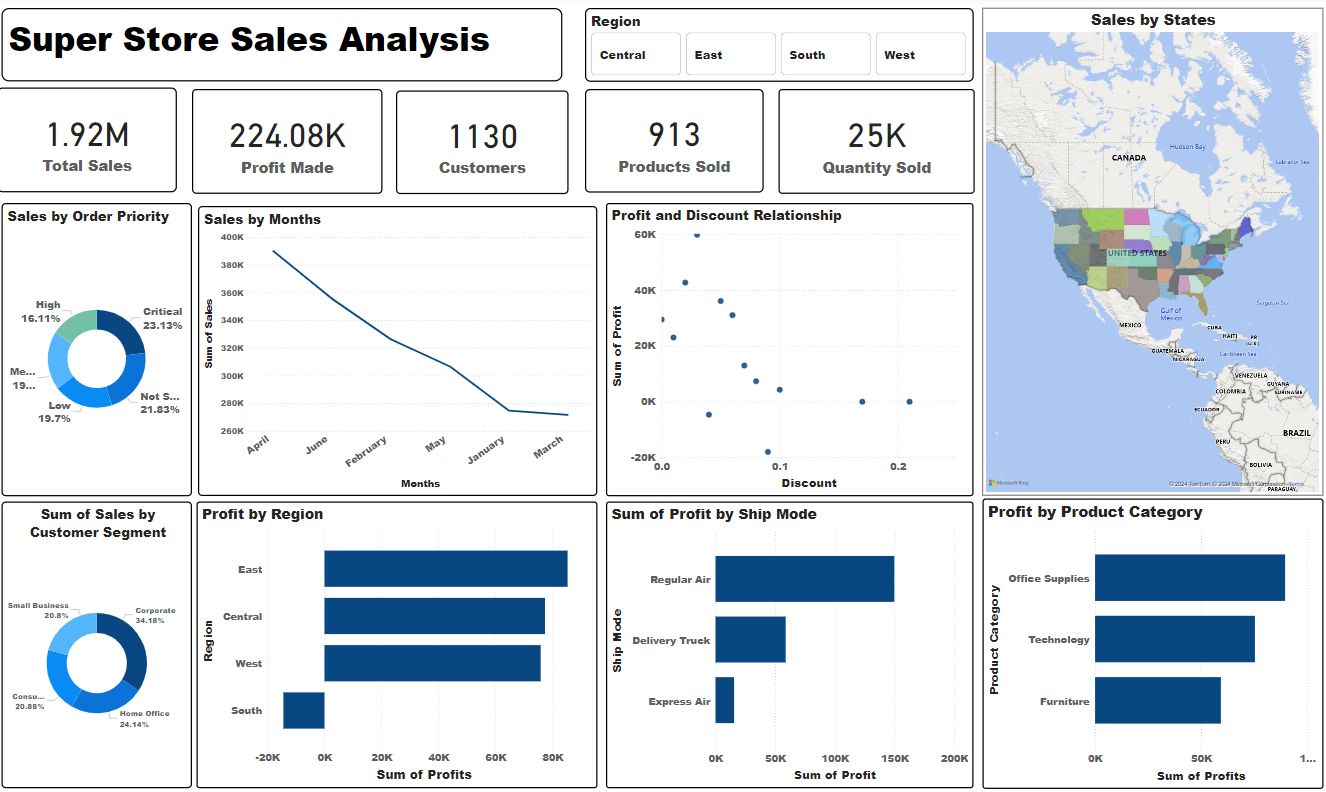

The dashboard page shown, as its layout file describes it:
{"tool":"powerbi","page":{"name":"Page 1","canvas":[2200,1350],"ordinal":0},"visuals":[{"type":"barChart","title":"Profit by Region","fields":{"Category":["Orders.Region"],"Y":["Sum(Orders.Profit)"]},"box":[324.9,825.7,655.1,468.3],"z":0},{"type":"scatterChart","title":"Profit and Discount Relationship","fields":{"X":["Orders.Discount"],"Y":["Sum(Orders.Profit)"]},"box":[996.2,338.4,601,479.2],"z":1000},{"type":"barChart","title":"Profit by Product Category","fields":{"Y":["Sum(Orders.Profit)"],"Category":["Orders.Product Category"]},"box":[1610.2,820.3,557.6,474.6],"z":2000},{"type":"barChart","fields":{"Y":["Sum(Orders.Profit)"],"Category":["Orders.Ship Mode"]},"box":[996.2,825.7,601,468.3],"z":3000},{"type":"card","fields":{"Values":["Orders.Total Sales"]},"box":[0,149.2,293.7,173],"z":4000},{"type":"card","fields":{"Values":["Orders.Total Sold Products"]},"box":[946,150.8,292.1,171.4],"z":5000},{"type":"card","fields":{"Values":["Orders.Total Profit Made"]},"box":[319,149.2,285.7,173],"z":6000},{"type":"textbox","box":[16.9,20.3,908.5,98.3],"z":7000},{"type":"advancedSlicerVisual","fields":{"Values":["Users.Region"]},"box":[961,20.3,635.6,120.3],"z":8000},{"type":"card","fields":{"Values":["Orders.Quantity Sold"]},"box":[1276.3,152.5,320.3,171.2],"z":9000},{"type":"card","fields":{"Values":["Orders.Customers"]},"box":[627,152.4,282.5,169.8],"z":10000},{"type":"donutChart","title":"     Sum of Sales by   \n     Customer Segment","fields":{"Y":["Sum(Orders.Sales)"],"Category":["Orders.Customer Segment"]},"box":[8.1,825.7,311.3,468.3],"z":11000},{"type":"donutChart","title":"Sales by Order Priority","fields":{"Category":["Orders.Order Priority"],"Y":["Sum(Orders.Sales)"]},"box":[8.1,338.4,311.3,479.2],"z":12000},{"type":"lineChart","title":"Sales by Months","fields":{"Category":["Orders.Months"],"Y":["Sum(Orders.Sales)"]},"box":[327.6,343.8,652.4,473.8],"z":13000},{"type":"filledMap","title":"Sales by States","fields":{"Category":["Orders.State or Province"],"Series":["Orders.Sales"]},"box":[1610.8,0,557.7,817.6],"z":14000}]}

Visuals, with their boxes in screenshot pixels (x1, y1, x2, y2), scaled from the page's 2200x1350 canvas onto the 1326x792 screenshot:
"Profit by Region" barChart: (left=196, top=484, right=591, bottom=759)
"Profit and Discount Relationship" scatterChart: (left=600, top=199, right=963, bottom=480)
"Profit by Product Category" barChart: (left=971, top=481, right=1307, bottom=760)
barChart - Sum(Orders.Profit) x Orders.Ship Mode: (left=600, top=484, right=963, bottom=759)
card - Orders.Total Sales: (left=0, top=88, right=177, bottom=189)
card - Orders.Total Sold Products: (left=570, top=88, right=746, bottom=189)
card - Orders.Total Profit Made: (left=192, top=88, right=364, bottom=189)
textbox: (left=10, top=12, right=558, bottom=70)
advancedSlicerVisual - Users.Region: (left=579, top=12, right=962, bottom=82)
card - Orders.Quantity Sold: (left=769, top=89, right=962, bottom=190)
card - Orders.Customers: (left=378, top=89, right=548, bottom=189)
"     Sum of Sales by   
     Customer Segment" donutChart: (left=5, top=484, right=193, bottom=759)
"Sales by Order Priority" donutChart: (left=5, top=199, right=193, bottom=480)
"Sales by Months" lineChart: (left=197, top=202, right=591, bottom=480)
"Sales by States" filledMap: (left=971, top=0, right=1307, bottom=480)
